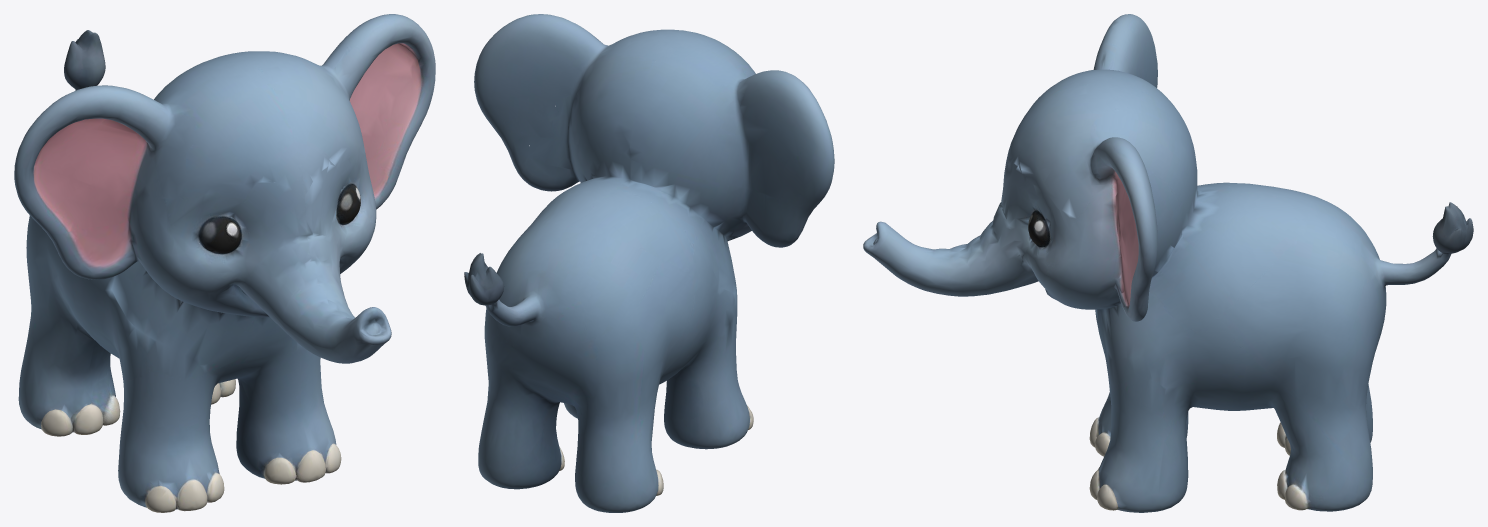
The model's file is elefante.glb.
The picture shows the model from 3 angles, left to right: view 1: azimuth 30°, elevation 25°; view 2: azimuth 150°, elevation 25°; view 3: azimuth 270°, elevation 25°; orthographic projection. The views are drawn at different scales.
Visible parts, largest first — view 1: personagem; view 2: personagem; view 3: personagem.
Part boxes in pixels (x1=…): personagem: x1=14, y1=14, x2=435, y2=512; personagem: x1=464, y1=14, x2=834, y2=512; personagem: x1=863, y1=14, x2=1473, y2=512.
Size of the model in its own units: 0.7001 by 0.6944 by 0.9799.
1 material, 1 textured.
